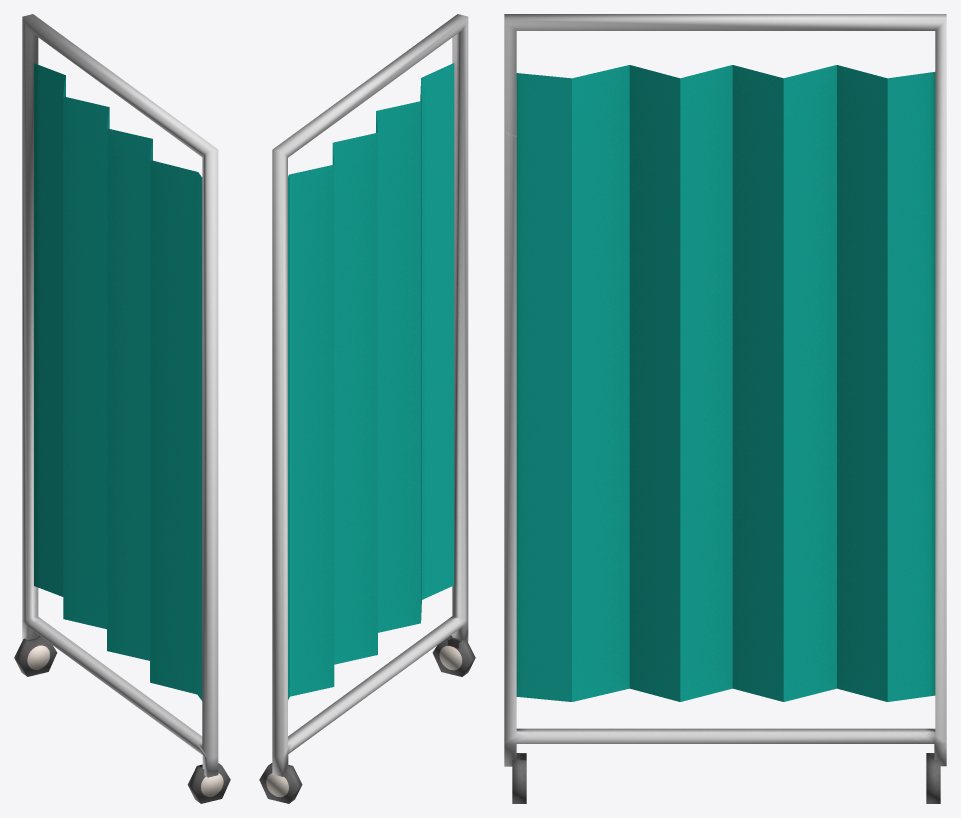
Rendered from mesh_curtain.obj.
The picture shows the model from 3 angles, left to right: view 1: azimuth 30°, elevation 25°; view 2: azimuth 150°, elevation 25°; view 3: azimuth 270°, elevation 25°; orthographic projection. The views are drawn at different scales.
Visible parts, largest first — view 1: Plane.001; view 2: Plane.001; view 3: Plane.001.
Boxes of the visible parts, left/top/right/bottom form: Plane.001: left=14, top=14, right=230, bottom=803; Plane.001: left=259, top=14, right=475, bottom=803; Plane.001: left=504, top=14, right=946, bottom=803.
Bounding box in the file's own units: 0.4552 × 7.64 × 3.93.
Materials: 1 (1 with a texture image).
